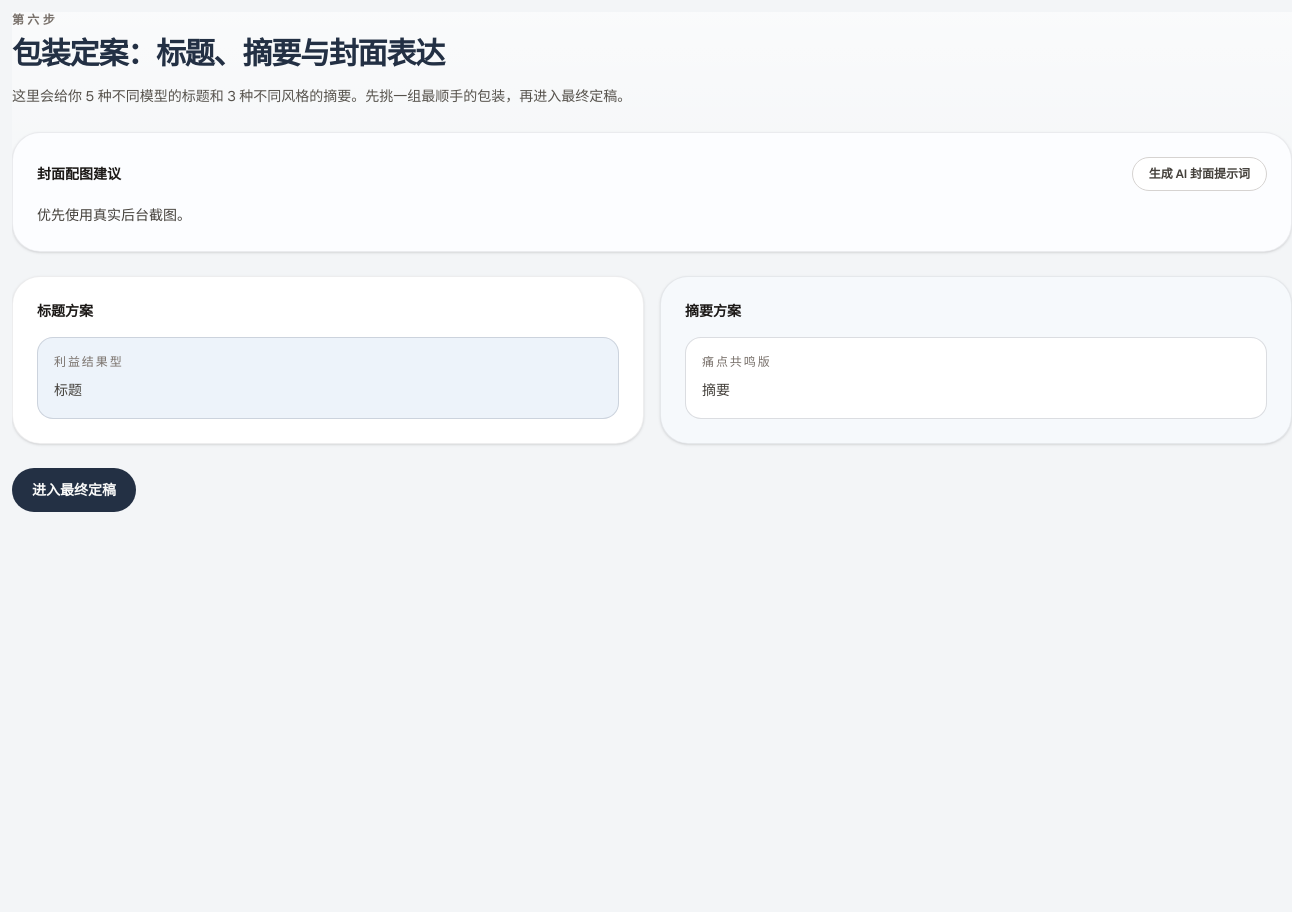
Test case: search toggle placement › reveals the AI cover prompt on demand in the meta stage
Expected: the text "优先使用真实后台截图。" is shown, [37, 206, 191, 224]
Expected: the text "画面概念：真实工作台" is not shown
Step 1. Click the button "生成 AI 封面提示词" → (1199, 174), box [1132, 157, 1267, 191]
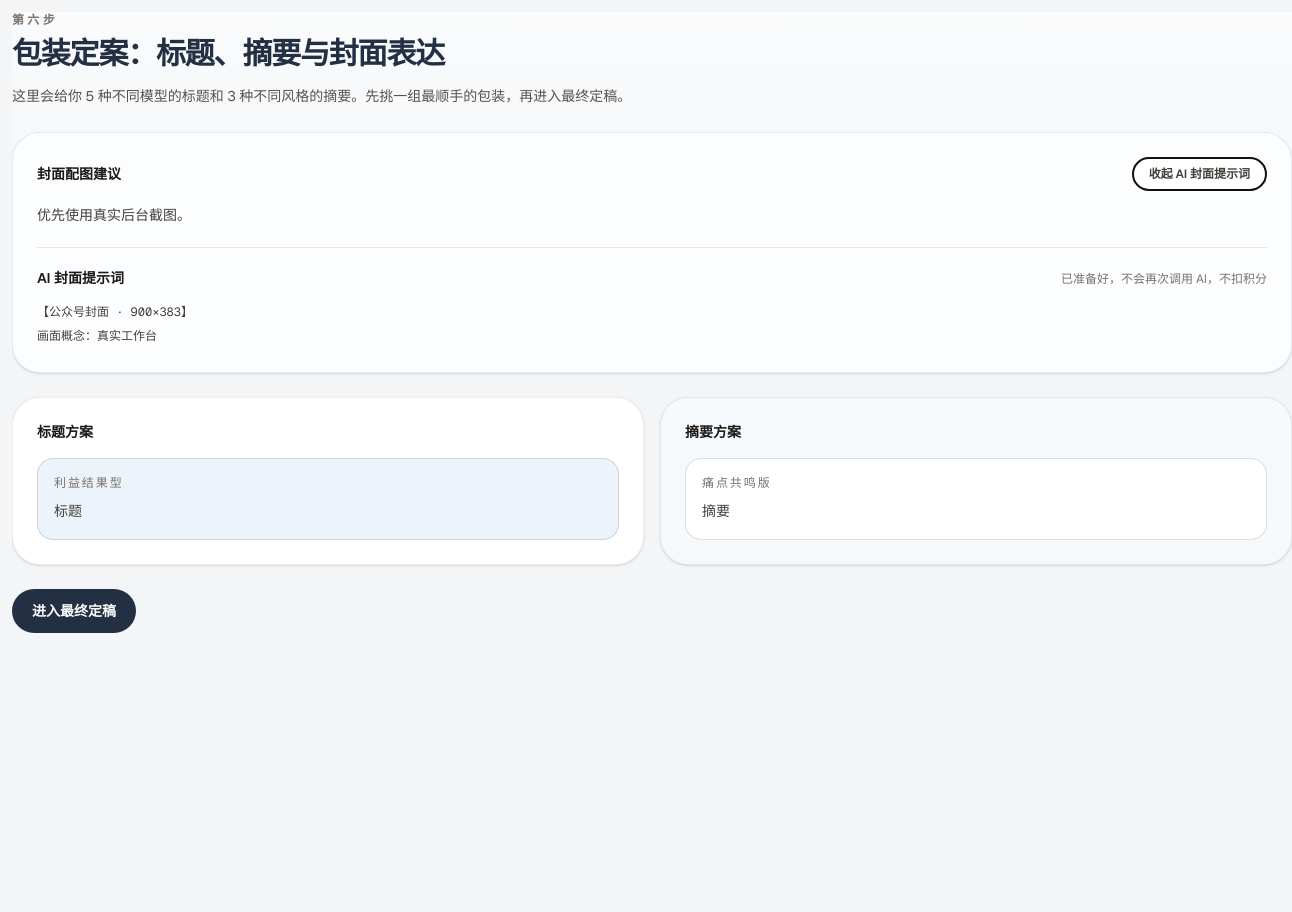
Result: the text "【公众号封面 · 900×383】 画面概念：真实工作台" is shown at [37, 304, 193, 344]
